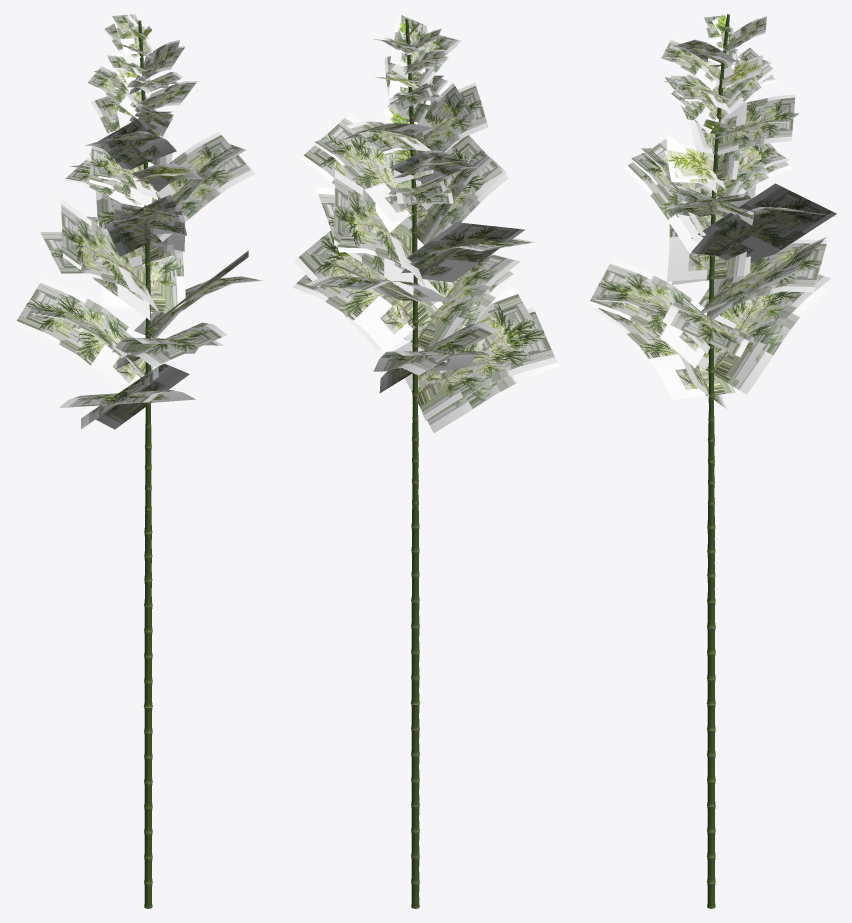
File: bamboo.fbx
3 renders of one model, left to right at view 1: azimuth 30°, elevation 25°; view 2: azimuth 150°, elevation 25°; view 3: azimuth 270°, elevation 25°, orthographic.
Parts seen in each view (by area): view 1: polySurface6; view 2: polySurface6; view 3: polySurface6.
Boxes of the visible parts, bbox=[...] form: polySurface6: bbox=[14, 14, 262, 908]; polySurface6: bbox=[292, 14, 559, 908]; polySurface6: bbox=[588, 14, 836, 908].
Bounding box in the file's own units: 318 × 1188 × 301.
2 materials, 2 textured.
